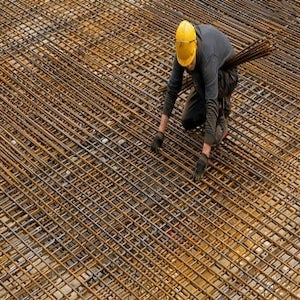safety: (176, 21, 199, 65)
